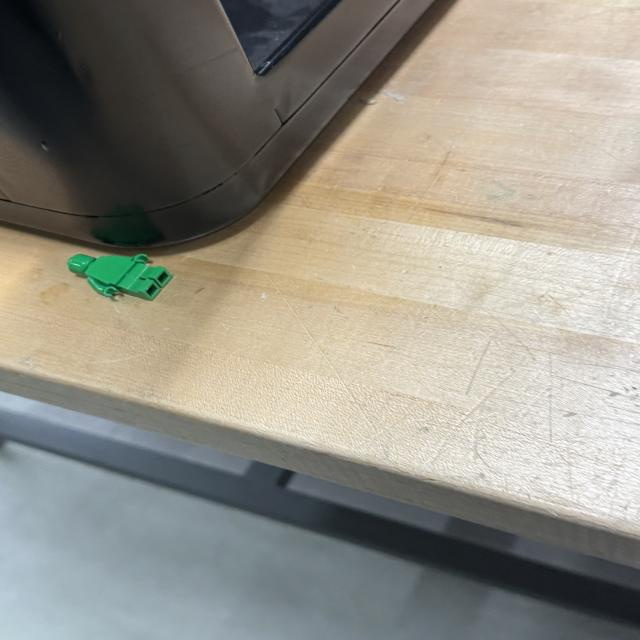Green Mini Figure: (67, 254, 173, 301)
